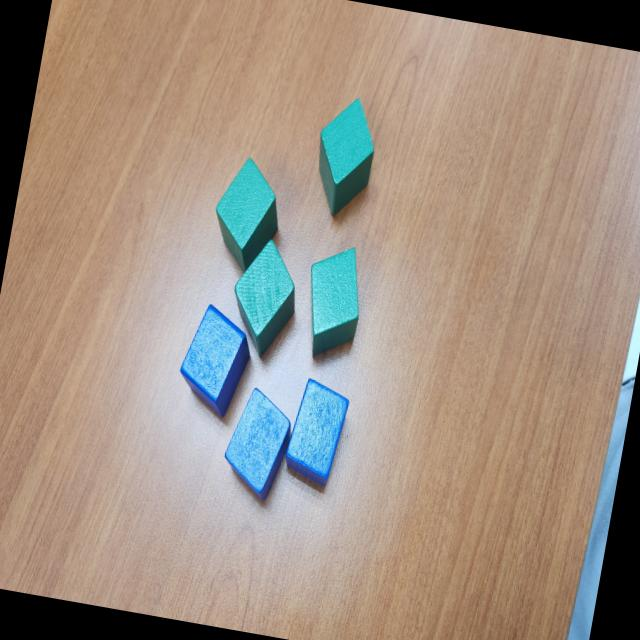blue: (172, 301, 258, 424), (217, 384, 298, 506), (281, 376, 352, 489)
green: (204, 152, 290, 278), (222, 235, 306, 362), (307, 93, 383, 220), (294, 241, 372, 363)
